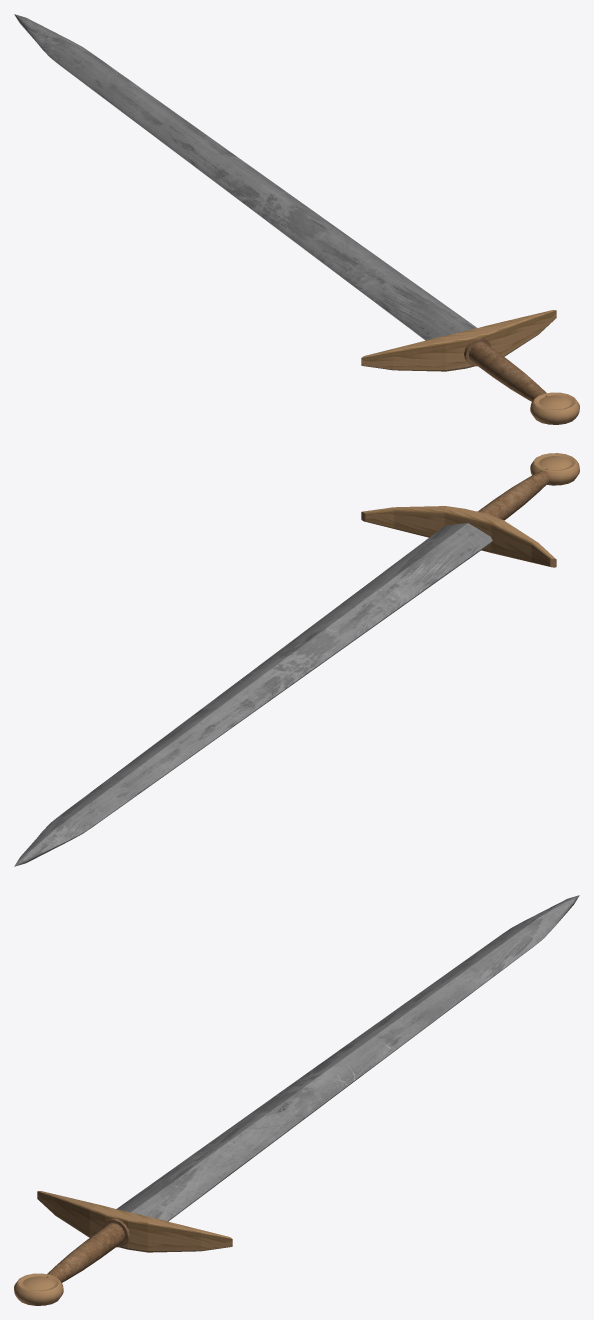
The model's file is Longsword_1.fbx.
3 views of the same model, one above another, from view 1: azimuth 30°, elevation 25°; view 2: azimuth 150°, elevation 25°; view 3: azimuth 330°, elevation 25° (orthographic).
Parts seen in each view (by area): view 1: LongSword; view 2: LongSword; view 3: LongSword.
Part boxes in pixels (x1,y1,x2,y2): LongSword: (14,14,579,424); LongSword: (14,453,579,866); LongSword: (14,895,579,1305).
Size of the model in its own units: 25.59 by 3.79 by 126.
